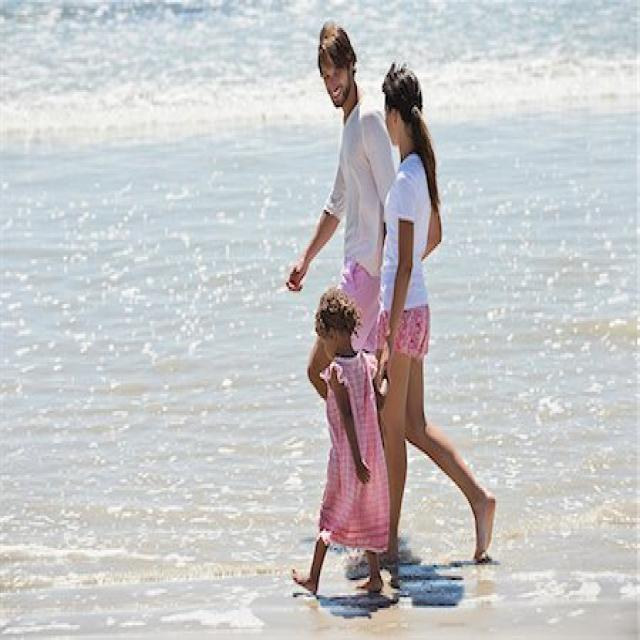Person: (380, 67, 498, 561), (287, 20, 395, 405), (292, 288, 390, 596)
